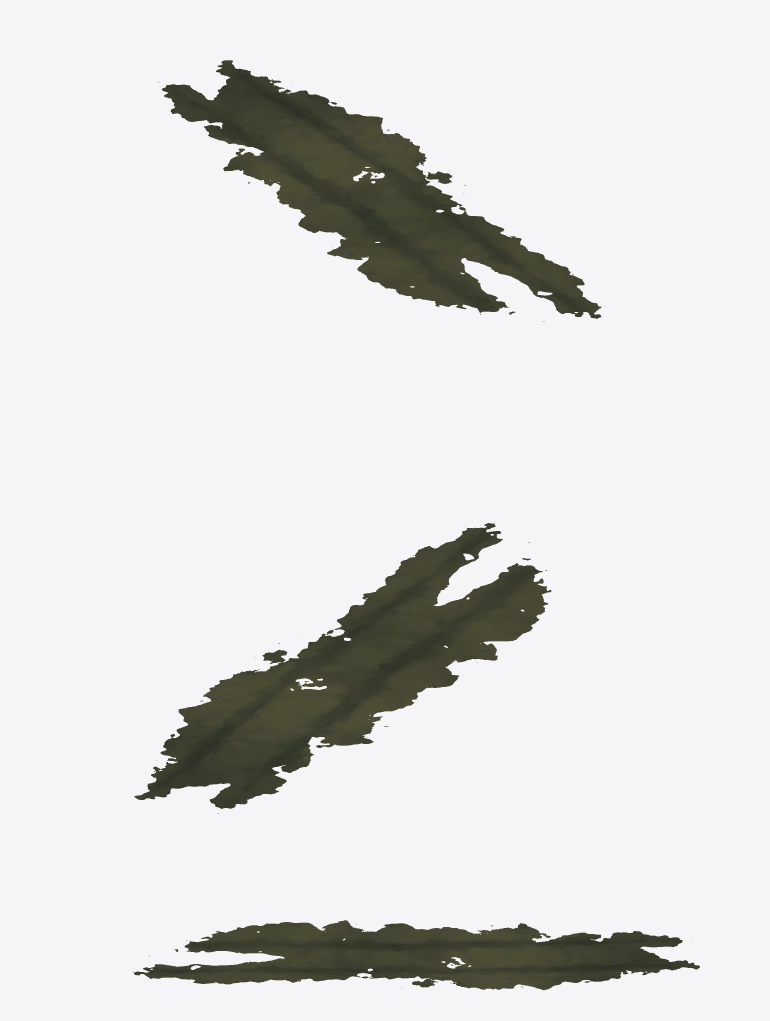
The model's file is road_straight_rock1b.fbx.
The picture shows the model from 3 angles, top to bottom: view 1: azimuth 30°, elevation 25°; view 2: azimuth 150°, elevation 25°; view 3: azimuth 270°, elevation 25°; orthographic projection. The views are drawn at different scales.
Parts seen in each view (by area): view 1: obj0.059; view 2: obj0.059; view 3: obj0.059.
Boxes of the visible parts, x1,y1,x2,y2 form: obj0.059: (158, 60, 605, 321); obj0.059: (134, 523, 551, 813); obj0.059: (133, 920, 699, 990).
Bounding box in the file's own units: 8.37 × 4.71e-06 × 24.47.
